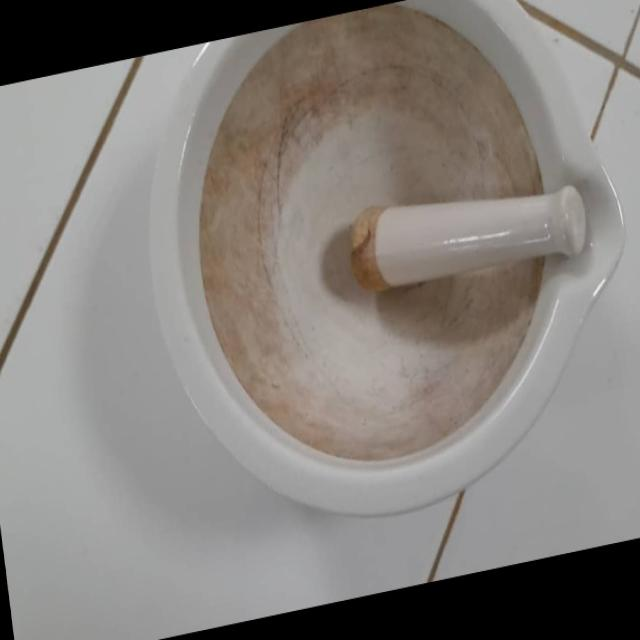Mortar and Pestle: (118, 0, 640, 561)
